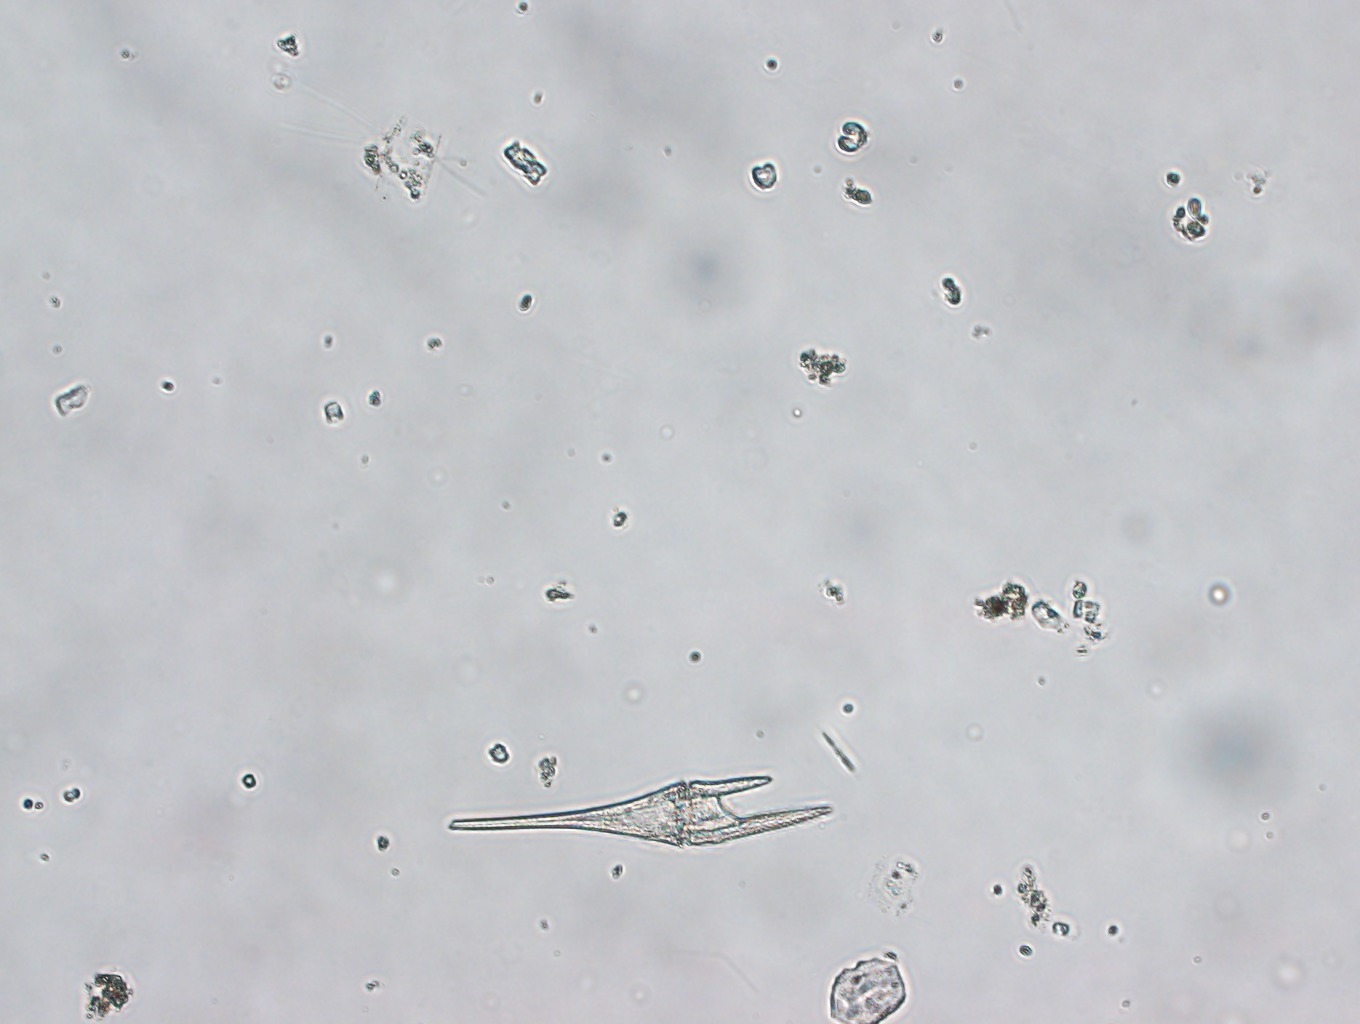ceratium furca: (444, 760, 836, 856)
